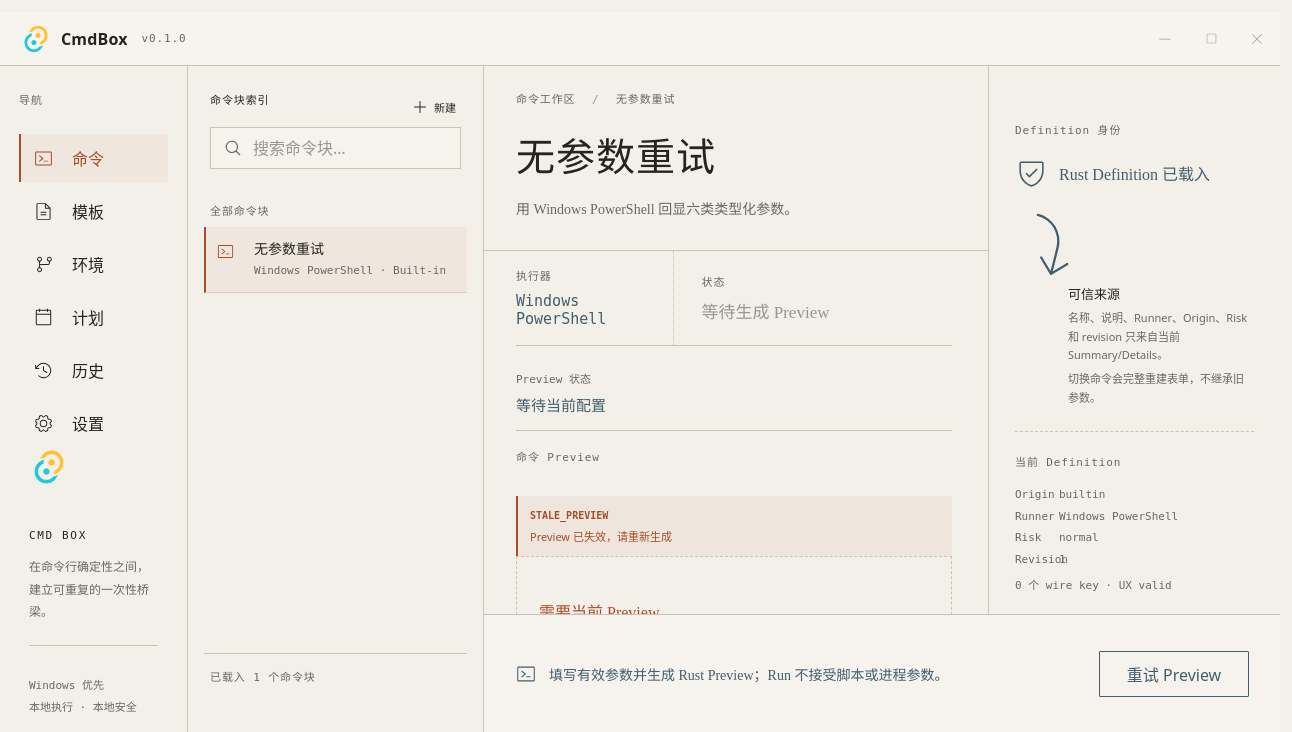
Test: CmdBox Command Workspace › Parameterless 自动 Preview 失败后只允许手动重试且永不自动 Run
The image size is (1292, 732).
Expected: the text "STALE_PREVIEW" is shown, [530,510,608,521]
Click the button "重试 Preview" at (1174, 674), box [1099,650,1249,696]
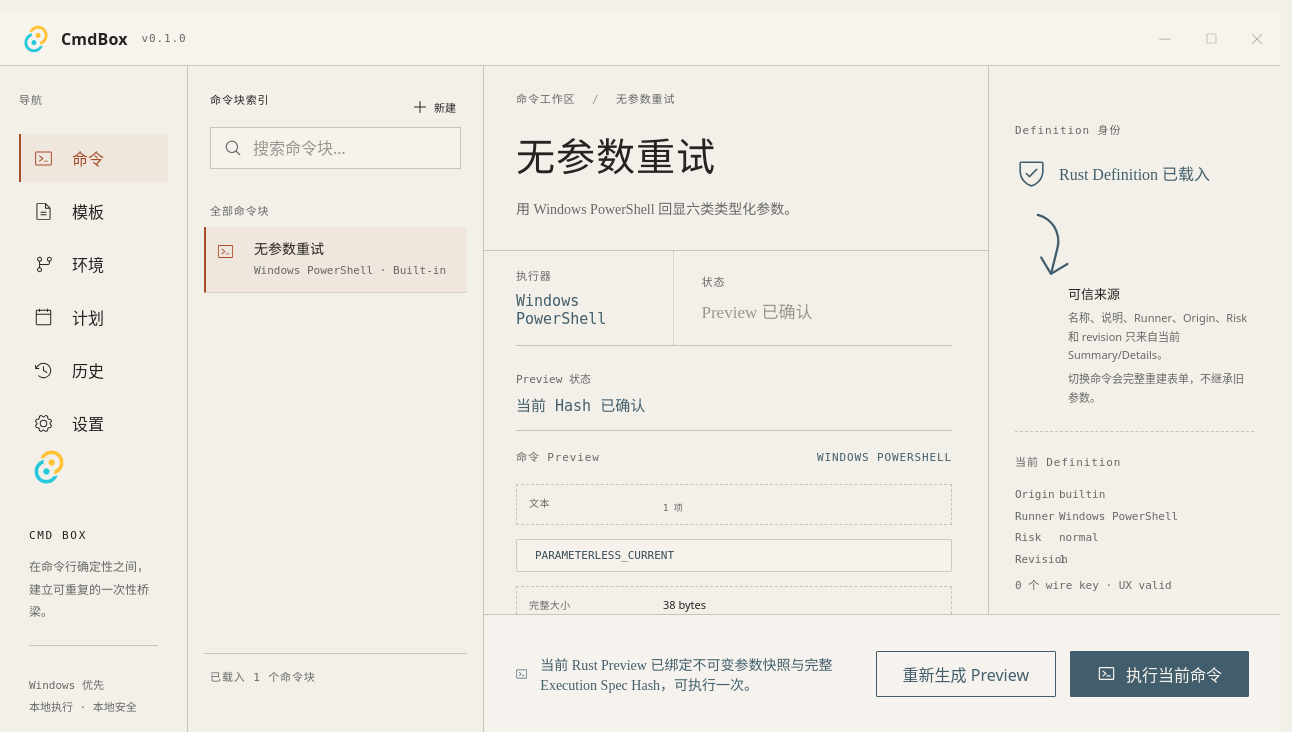
Expected: the text "PARAMETERLESS_CURRENT" is shown, [516,539,952,572]
